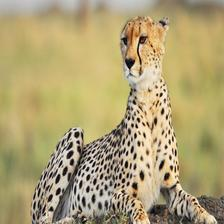Cheetah: (28, 15, 218, 223)
